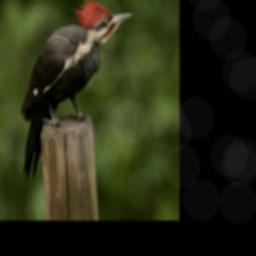Woodpecker: (11, 0, 137, 184)
